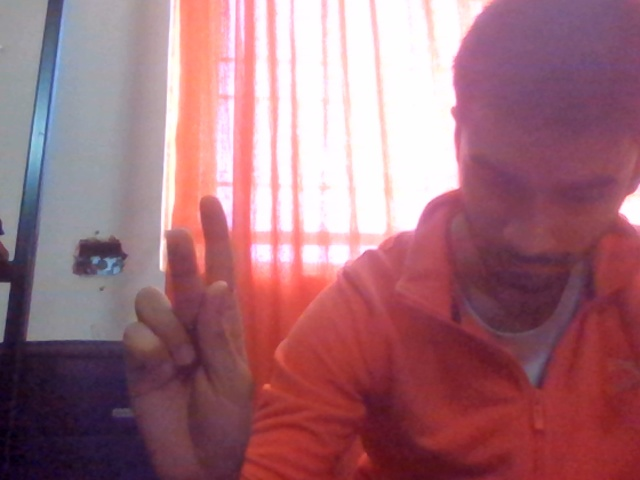K: (93, 179, 285, 480)
